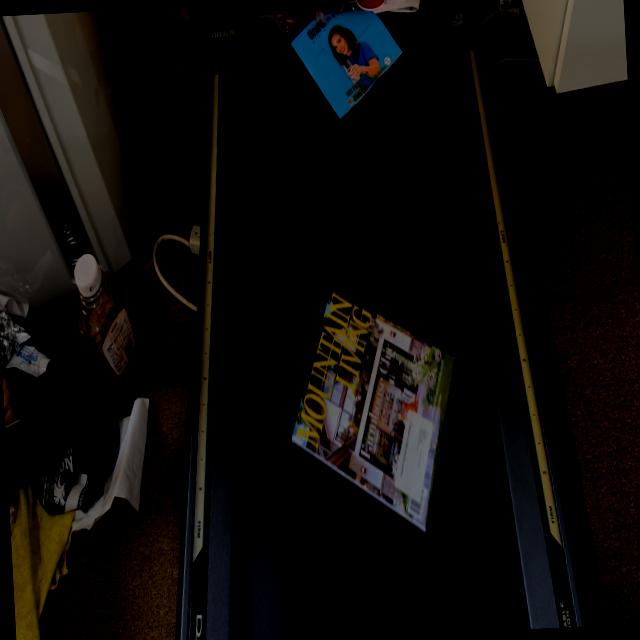Recycle: (283, 284, 467, 544), (270, 0, 408, 126)
